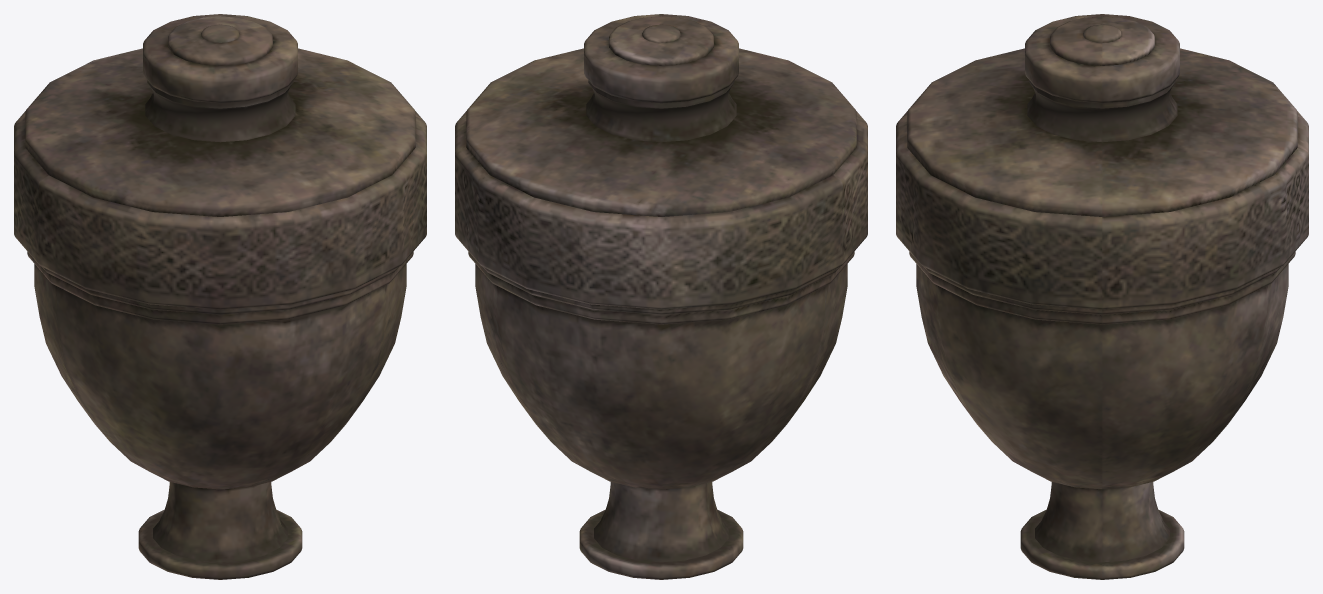
The model's file is SM_urn_01.fbx.
3 renders of one model, left to right at view 1: azimuth 30°, elevation 25°; view 2: azimuth 150°, elevation 25°; view 3: azimuth 270°, elevation 25°, orthographic.
Parts seen in each view (by area): view 1: SM_urn_01; view 2: SM_urn_01; view 3: SM_urn_01.
Part boxes in pixels (x1,y1,x2,y2): SM_urn_01: (14,14,426,579); SM_urn_01: (455,14,867,579); SM_urn_01: (896,14,1308,579).
Size of the model in its own units: 34.84 by 47.31 by 34.31.
